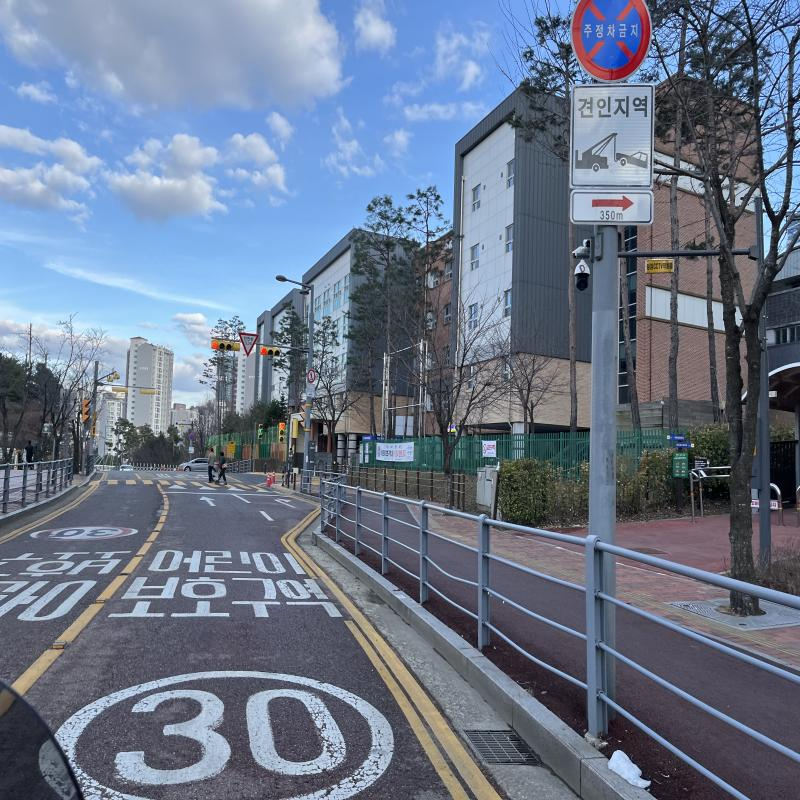red: (212, 340, 219, 349), (261, 347, 267, 355)
